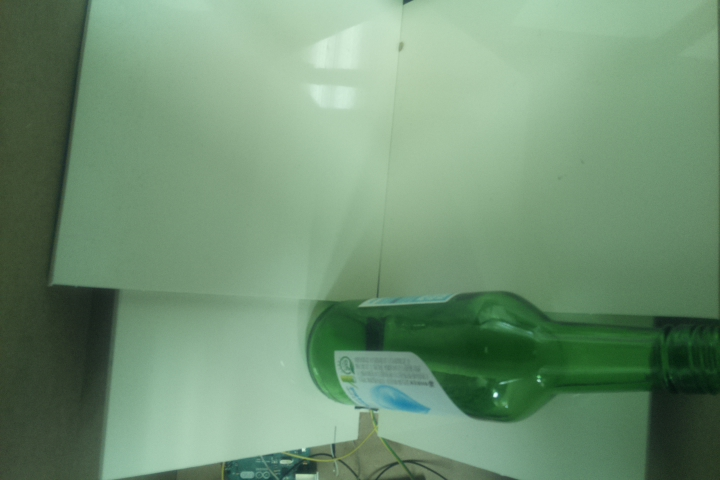soju: (306, 289, 720, 425)
